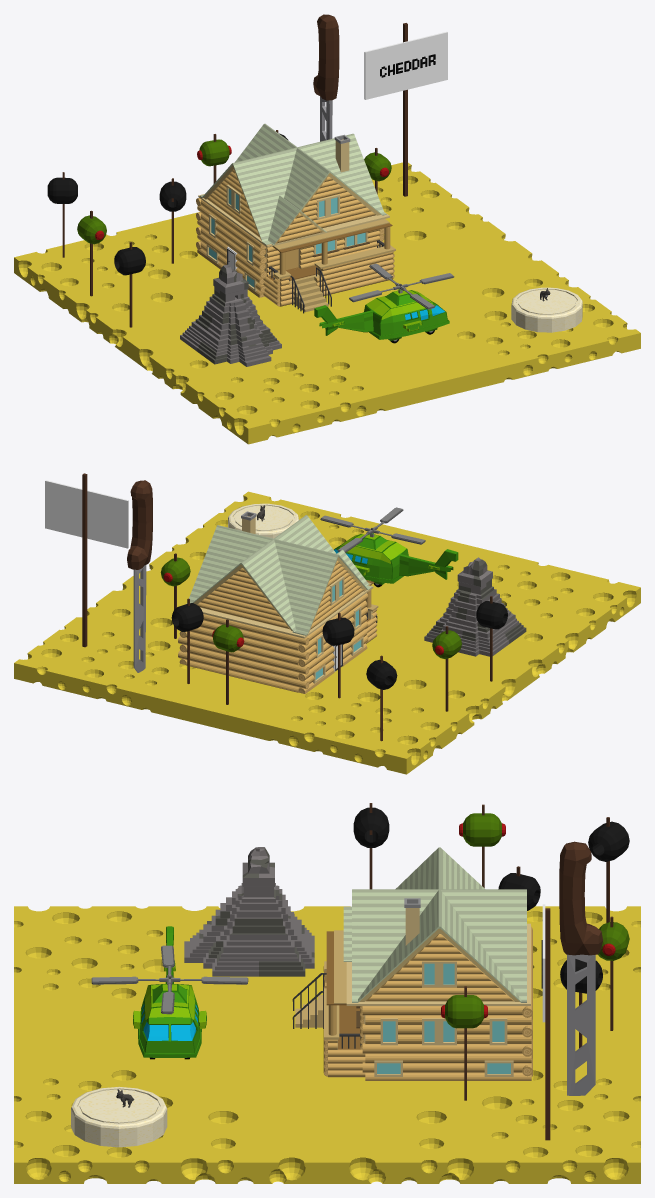
The picture shows the model from 3 angles, top to bottom: view 1: azimuth 30°, elevation 25°; view 2: azimuth 150°, elevation 25°; view 3: azimuth 270°, elevation 25°; orthographic projection. The views are drawn at different scales.
Visible parts, largest first — view 1: Cube.022, Cube.1516, OBJRANDOM_GRAN_JAGUAR, VEHICLES_HELICOPTER, Cube.023, Cylinder.016, Cube.024, Sphere.017, Sphere.016, Sphere.020, Sphere.018, Sphere.022 (+1 smaller); view 2: Cube.022, Cube.1516, Cube.023, OBJRANDOM_GRAN_JAGUAR, VEHICLES_HELICOPTER, Cube.024, Cylinder.016, Sphere.017, Sphere.020, Sphere.021, Sphere.016, Sphere.018 (+2 smaller); view 3: Cube.022, Cube.1516, OBJRANDOM_GRAN_JAGUAR, Cube.024, VEHICLES_HELICOPTER, Cylinder.016, Cube.023, Sphere.019, Sphere.016, Sphere.018, Sphere.017, Sphere.022 (+2 smaller).
Boxes of the visible parts, x1,y1,x2,y2 form: Cube.022: (14, 162, 640, 444); Cube.1516: (196, 123, 395, 313); OBJRANDOM_GRAN_JAGUAR: (180, 264, 281, 366); VEHICLES_HELICOPTER: (314, 263, 454, 343); Cube.023: (364, 23, 447, 196); Cylinder.016: (511, 287, 582, 332); Cube.024: (313, 14, 339, 141); Sphere.017: (114, 242, 145, 327); Sphere.016: (47, 172, 77, 257); Sphere.020: (159, 178, 186, 263); Sphere.018: (77, 210, 106, 296); Sphere.022: (197, 134, 231, 183); Cube.022: (14, 491, 640, 774); Cube.1516: (178, 511, 378, 693); Cube.023: (45, 473, 128, 647); OBJRANDOM_GRAN_JAGUAR: (424, 557, 526, 656); VEHICLES_HELICOPTER: (320, 507, 458, 587); Cube.024: (127, 480, 152, 672); Cylinder.016: (228, 503, 298, 538); Sphere.017: (476, 596, 507, 681); Sphere.020: (322, 612, 354, 698); Sphere.021: (171, 598, 203, 683); Sphere.016: (366, 655, 397, 741); Sphere.018: (432, 626, 461, 711); Cube.022: (14, 906, 640, 1183); Cube.1516: (292, 847, 532, 1080); OBJRANDOM_GRAN_JAGUAR: (184, 847, 314, 976); Cube.024: (559, 841, 602, 1095); VEHICLES_HELICOPTER: (91, 926, 248, 1059); Cylinder.016: (71, 1086, 167, 1147); Cube.023: (541, 904, 550, 1140); Sphere.019: (441, 986, 487, 1100); Sphere.016: (588, 817, 629, 922); Sphere.018: (459, 804, 505, 887); Sphere.017: (353, 803, 389, 889); Sphere.022: (598, 916, 629, 1030).
Bounding box in the file's own units: 3917 × 2159 × 4000.
Materials: 39 (4 with a texture image).
